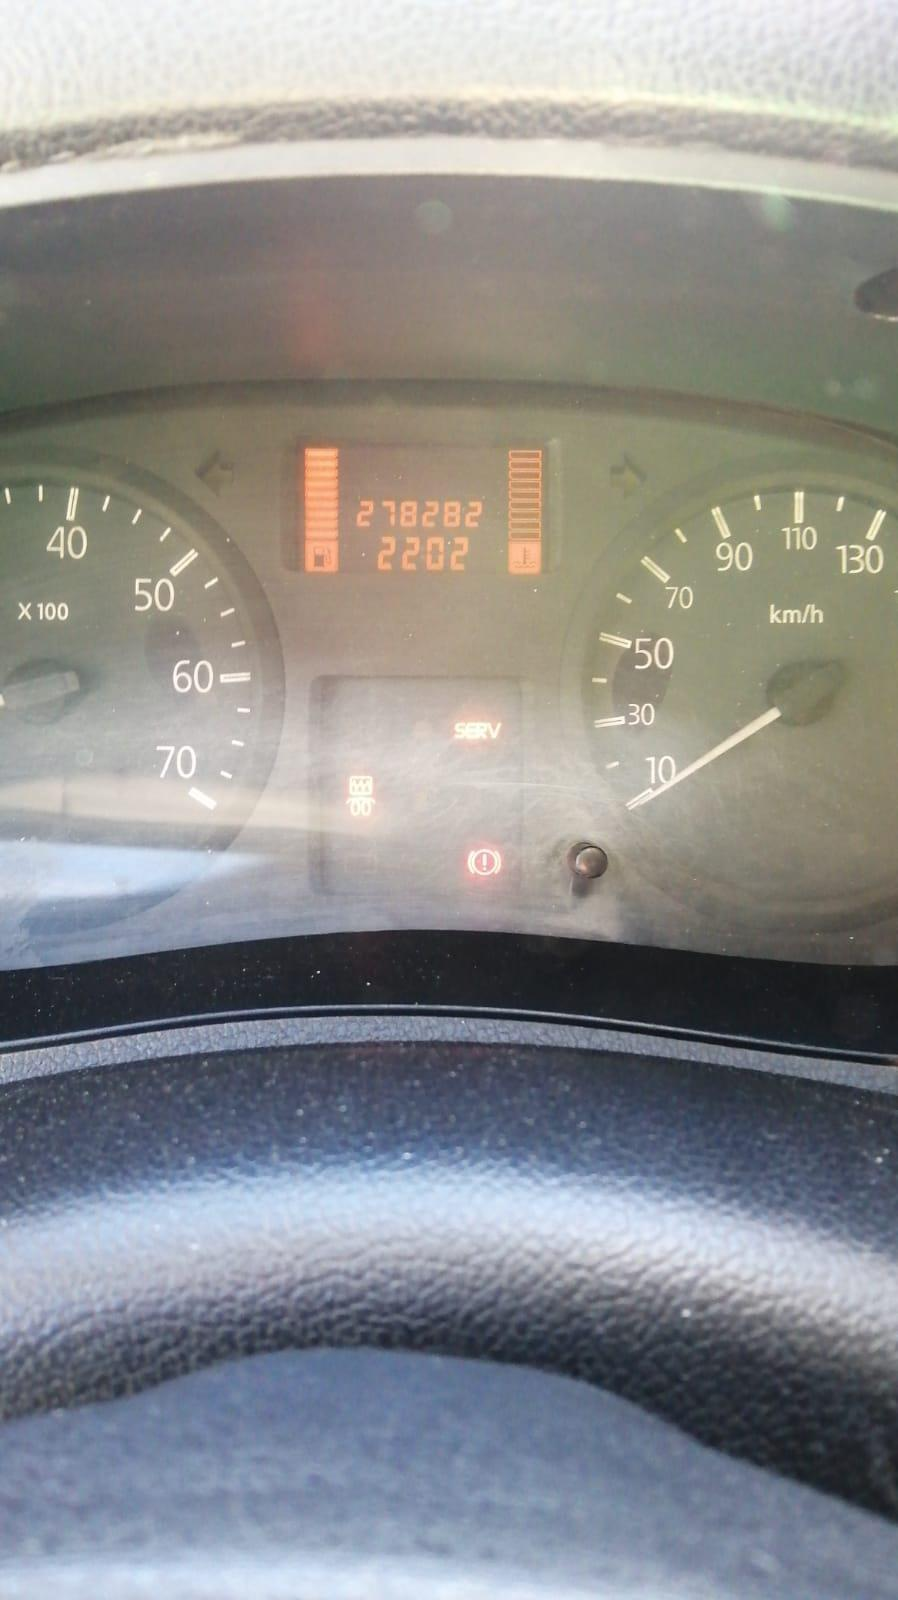0: (424, 535, 445, 571)
2: (448, 536, 469, 570), (376, 536, 396, 571), (400, 536, 420, 571), (464, 500, 483, 527), (356, 500, 374, 527), (421, 500, 439, 527)
7: (379, 499, 395, 527)
8: (442, 499, 461, 527), (399, 500, 418, 527)
odometer: (285, 435, 556, 577)
